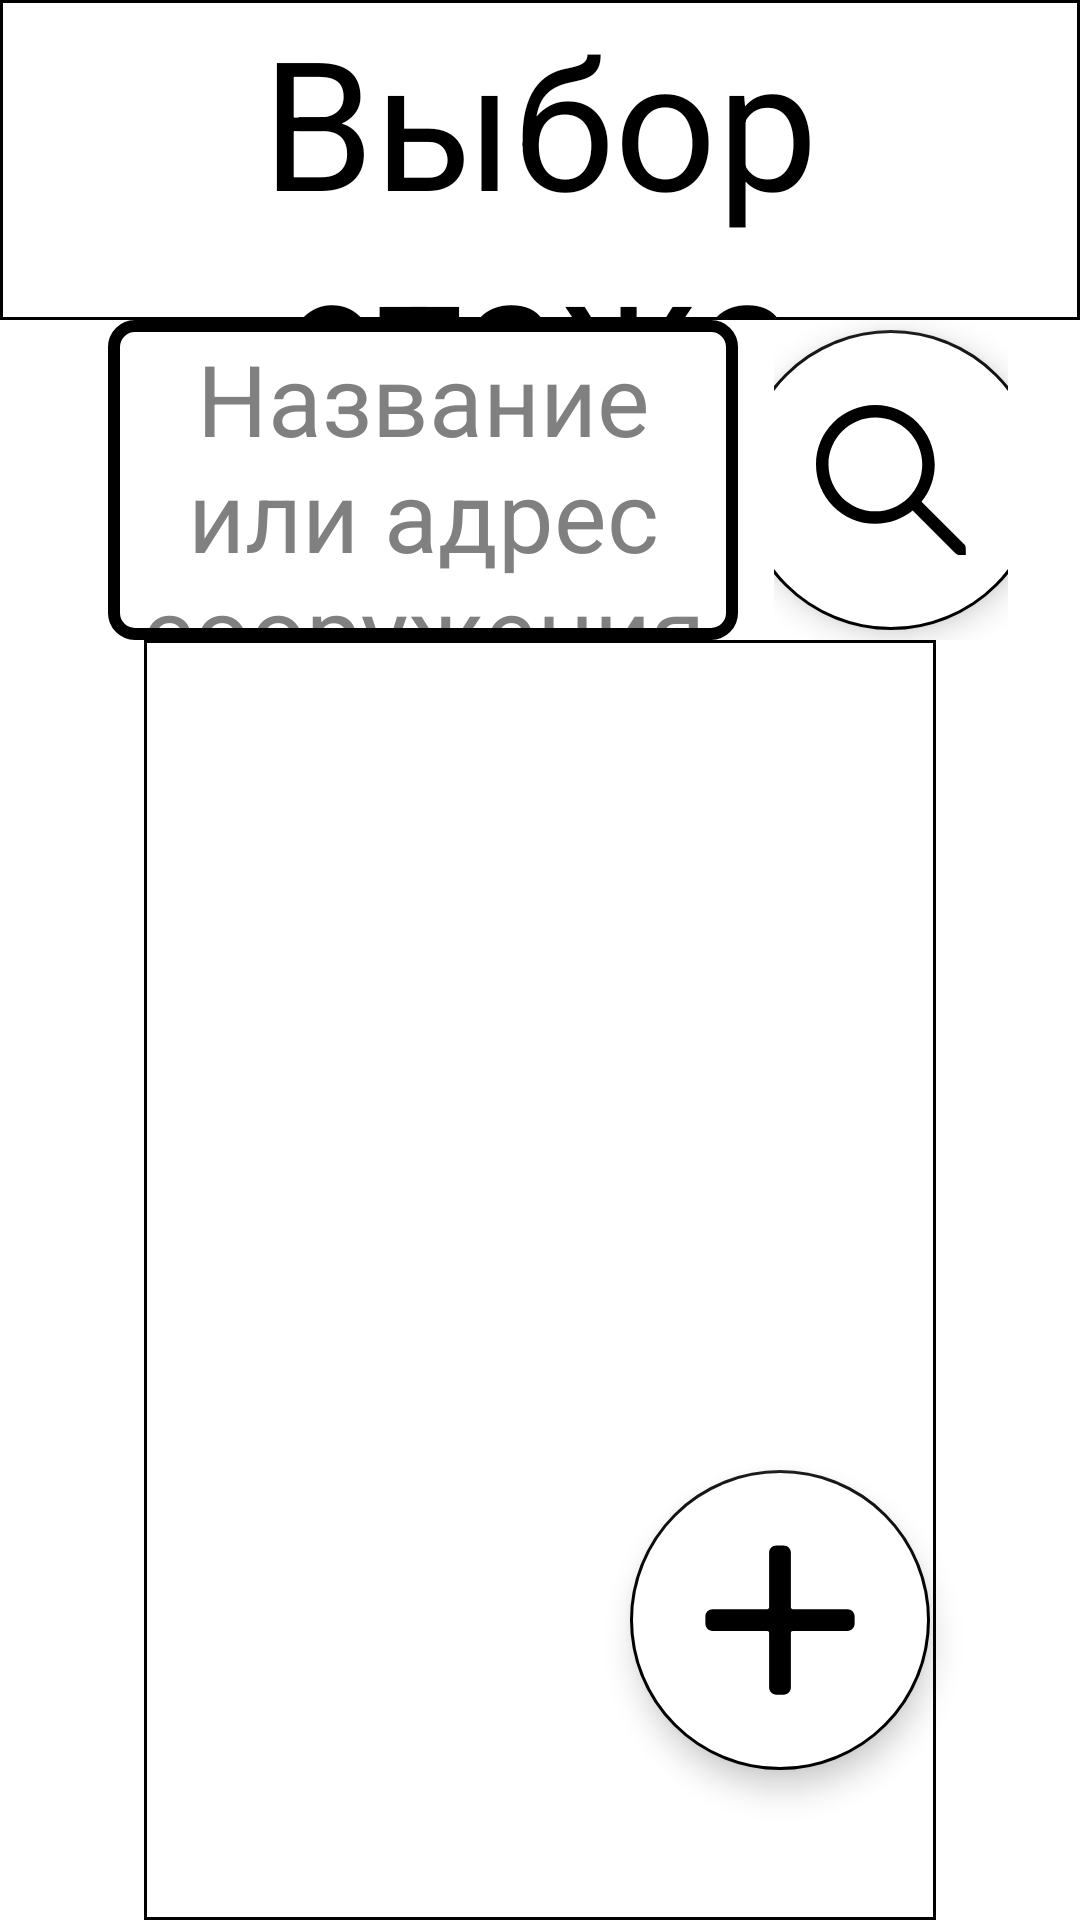

Where icons sit on this 1080px x 1920px app screen, as (x1, y1, x2, y2):
add fab: (630, 1470, 930, 1770)
